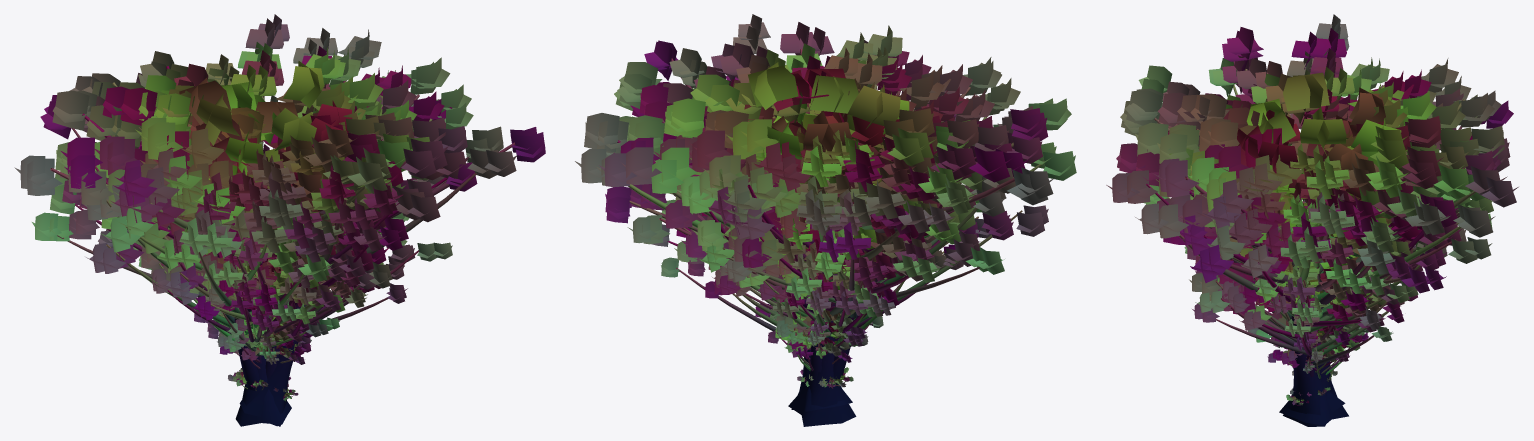
The model's file is trees_acacia.glb.
3 renders of one model, left to right at view 1: azimuth 30°, elevation 25°; view 2: azimuth 150°, elevation 25°; view 3: azimuth 270°, elevation 25°, orthographic. The views are drawn at different scales.
Parts seen in each view (by area): view 1: acacia_ancient_04_LOD0, acacia_ancient_03_LOD0, acacia_ancient_01_LOD0, acacia_mature_03_LOD0, acacia_ancient_02_LOD0, acacia_mature_04_LOD0, acacia_mature_01_LOD0, acacia_mature_02_LOD0, acacia_young_04_LOD0, acacia_young_03_LOD0, acacia_young_01_LOD0, acacia_young_02_LOD0; view 2: acacia_ancient_04_LOD0, acacia_ancient_03_LOD0, acacia_ancient_01_LOD0, acacia_ancient_02_LOD0, acacia_mature_04_LOD0, acacia_mature_03_LOD0, acacia_mature_01_LOD0, acacia_mature_02_LOD0, acacia_young_04_LOD0, acacia_young_02_LOD0, acacia_young_03_LOD0; view 3: acacia_ancient_04_LOD0, acacia_ancient_03_LOD0, acacia_ancient_01_LOD0, acacia_mature_03_LOD0, acacia_ancient_02_LOD0, acacia_mature_01_LOD0, acacia_mature_04_LOD0, acacia_mature_02_LOD0, acacia_young_04_LOD0, acacia_young_02_LOD0, acacia_young_01_LOD0.
Boxes of the visible parts, x1,y1,x2,y2 form: acacia_ancient_04_LOD0: [14, 14, 467, 426]; acacia_ancient_03_LOD0: [40, 28, 545, 426]; acacia_ancient_01_LOD0: [32, 95, 446, 426]; acacia_mature_03_LOD0: [98, 213, 452, 348]; acacia_ancient_02_LOD0: [60, 90, 477, 262]; acacia_mature_04_LOD0: [139, 144, 392, 321]; acacia_mature_01_LOD0: [151, 240, 407, 363]; acacia_mature_02_LOD0: [138, 256, 375, 342]; acacia_young_04_LOD0: [194, 310, 339, 349]; acacia_young_03_LOD0: [207, 317, 312, 362]; acacia_young_01_LOD0: [219, 337, 311, 368]; acacia_young_02_LOD0: [217, 332, 310, 358]; acacia_ancient_04_LOD0: [584, 22, 1055, 426]; acacia_ancient_03_LOD0: [575, 14, 1076, 411]; acacia_ancient_01_LOD0: [605, 155, 1048, 362]; acacia_ancient_02_LOD0: [606, 76, 1006, 394]; acacia_mature_04_LOD0: [661, 199, 991, 337]; acacia_mature_03_LOD0: [651, 223, 963, 341]; acacia_mature_01_LOD0: [661, 243, 936, 358]; acacia_mature_02_LOD0: [719, 242, 955, 328]; acacia_young_04_LOD0: [755, 301, 866, 339]; acacia_young_02_LOD0: [768, 319, 868, 370]; acacia_young_03_LOD0: [775, 315, 883, 347]; acacia_ancient_04_LOD0: [1125, 14, 1518, 425]; acacia_ancient_03_LOD0: [1106, 49, 1513, 426]; acacia_ancient_01_LOD0: [1144, 143, 1493, 370]; acacia_mature_03_LOD0: [1189, 199, 1425, 350]; acacia_ancient_02_LOD0: [1169, 85, 1470, 396]; acacia_mature_01_LOD0: [1192, 278, 1417, 376]; acacia_mature_04_LOD0: [1185, 221, 1466, 316]; acacia_mature_02_LOD0: [1184, 228, 1415, 334]; acacia_young_04_LOD0: [1248, 312, 1368, 350]; acacia_young_02_LOD0: [1284, 329, 1368, 378]; acacia_young_01_LOD0: [1267, 344, 1349, 373].
Size of what is drawn, in the model's own units: 35.21 by 24.62 by 28.31.
